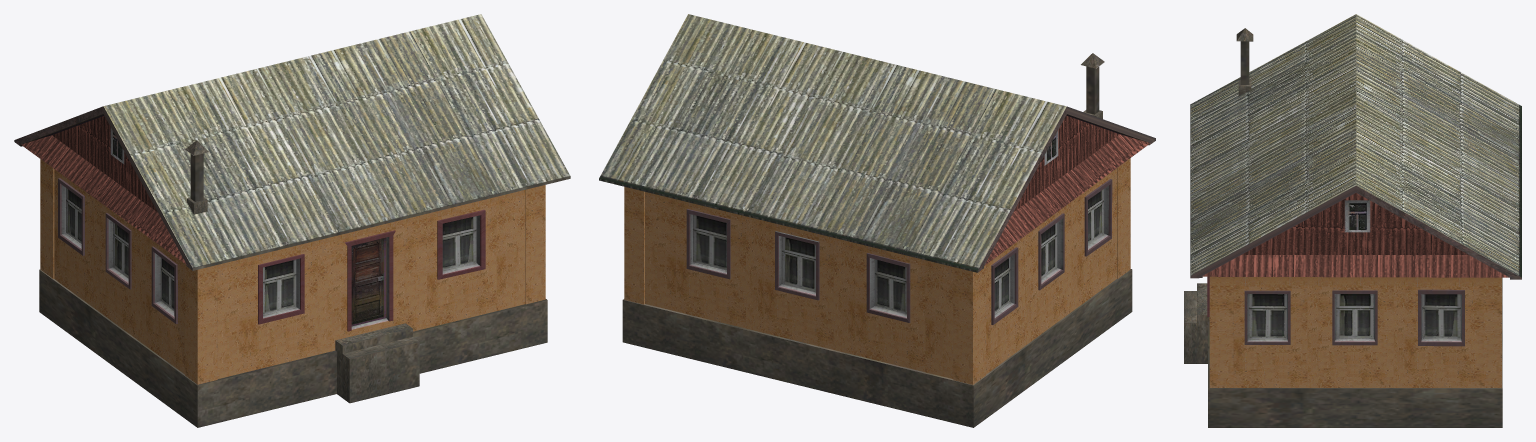
The model's file is DachaFAB1.fbx.
The picture shows the model from 3 angles, left to right: view 1: azimuth 30°, elevation 25°; view 2: azimuth 150°, elevation 25°; view 3: azimuth 270°, elevation 25°; orthographic projection. The views are drawn at different scales.
Parts seen in each view (by area): view 1: Circle.002; view 2: Circle.002; view 3: Circle.002.
Boxes of the visible parts, box(x1,y1,x2,y2) form: Circle.002: box(14, 14, 570, 427); Circle.002: box(599, 14, 1155, 427); Circle.002: box(1184, 14, 1521, 427).
Size of the model in its own units: 824 by 559 by 686.
